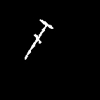double_crochet: (25, 20, 52, 58)
